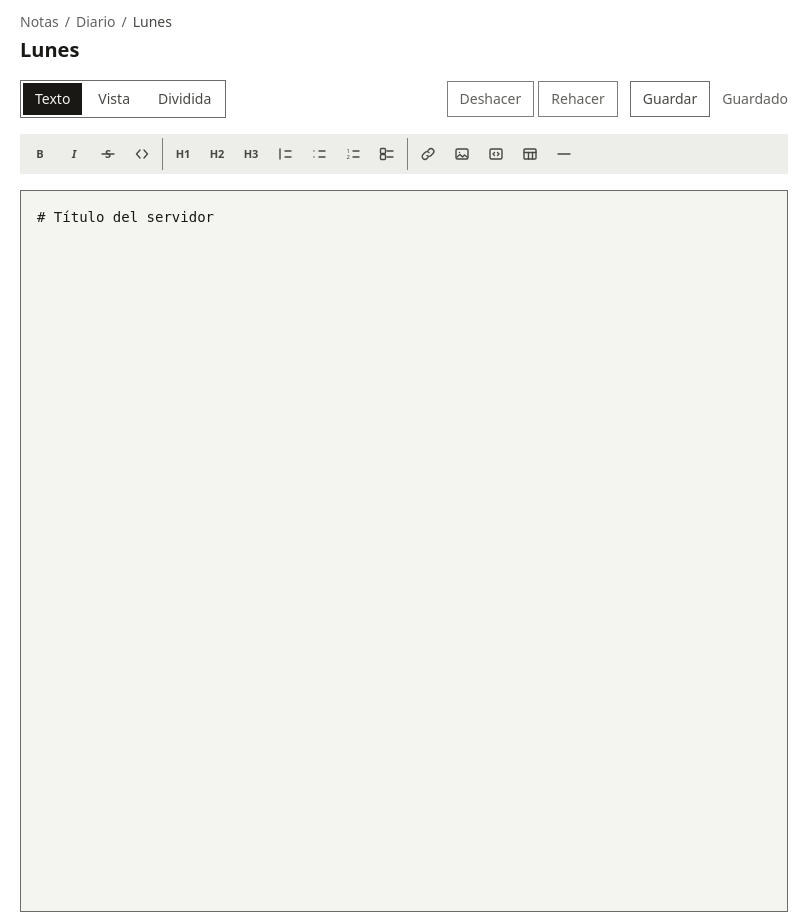
Test case: DocumentEditorPage — vista previa (AC-24) › renderiza el BORRADOR y no lo último guardado
Replace the text in the text box named "Texto de «Lunes»" with "# Lo que estoy escribiendo" at (404, 551), box x1=20 y1=190 x2=788 y2=911
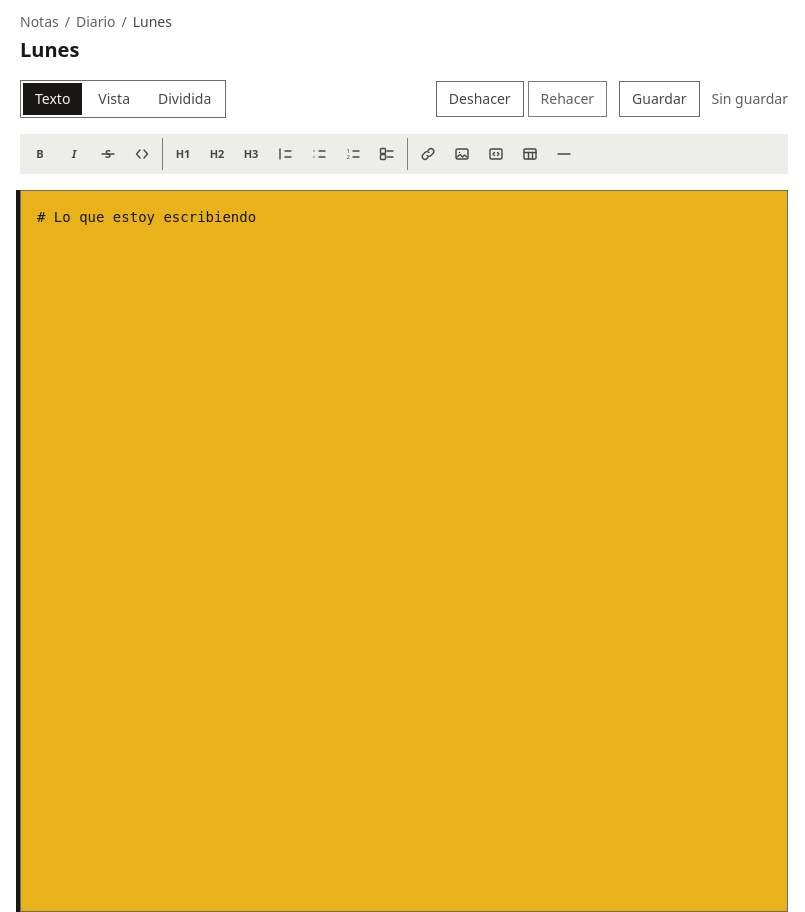
Click the tab "Vista" at (114, 99), box x1=86 y1=83 x2=142 y2=115
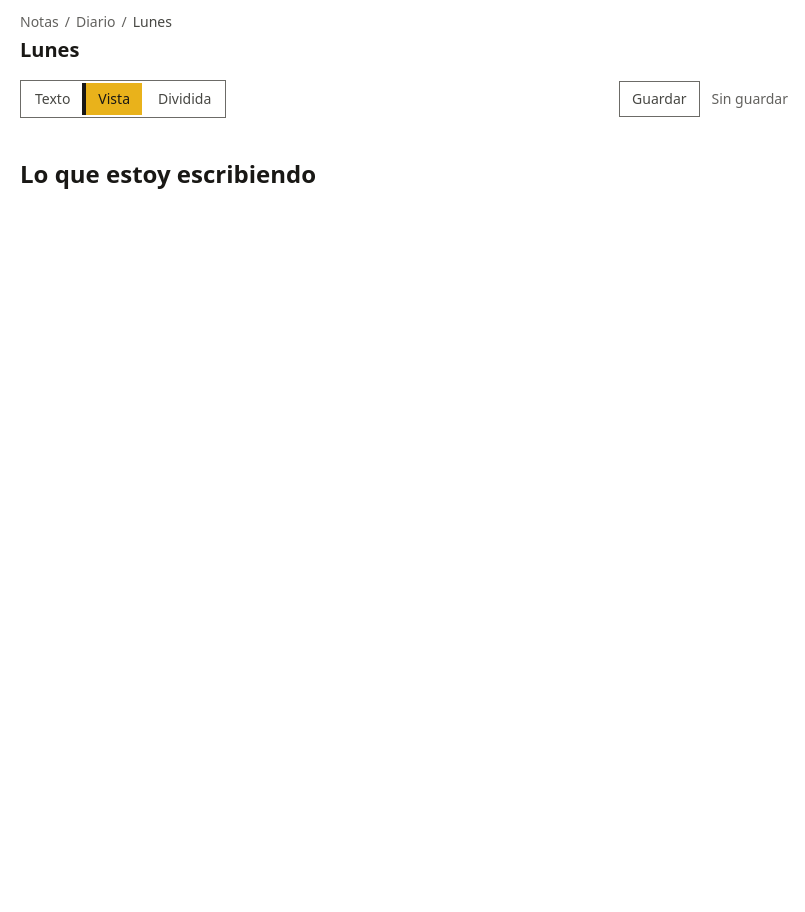
expect the heading "título del servidor" is not shown: met
expect the heading "Lo que estoy escribiendo" is shown: met, box x1=20 y1=157 x2=316 y2=190
